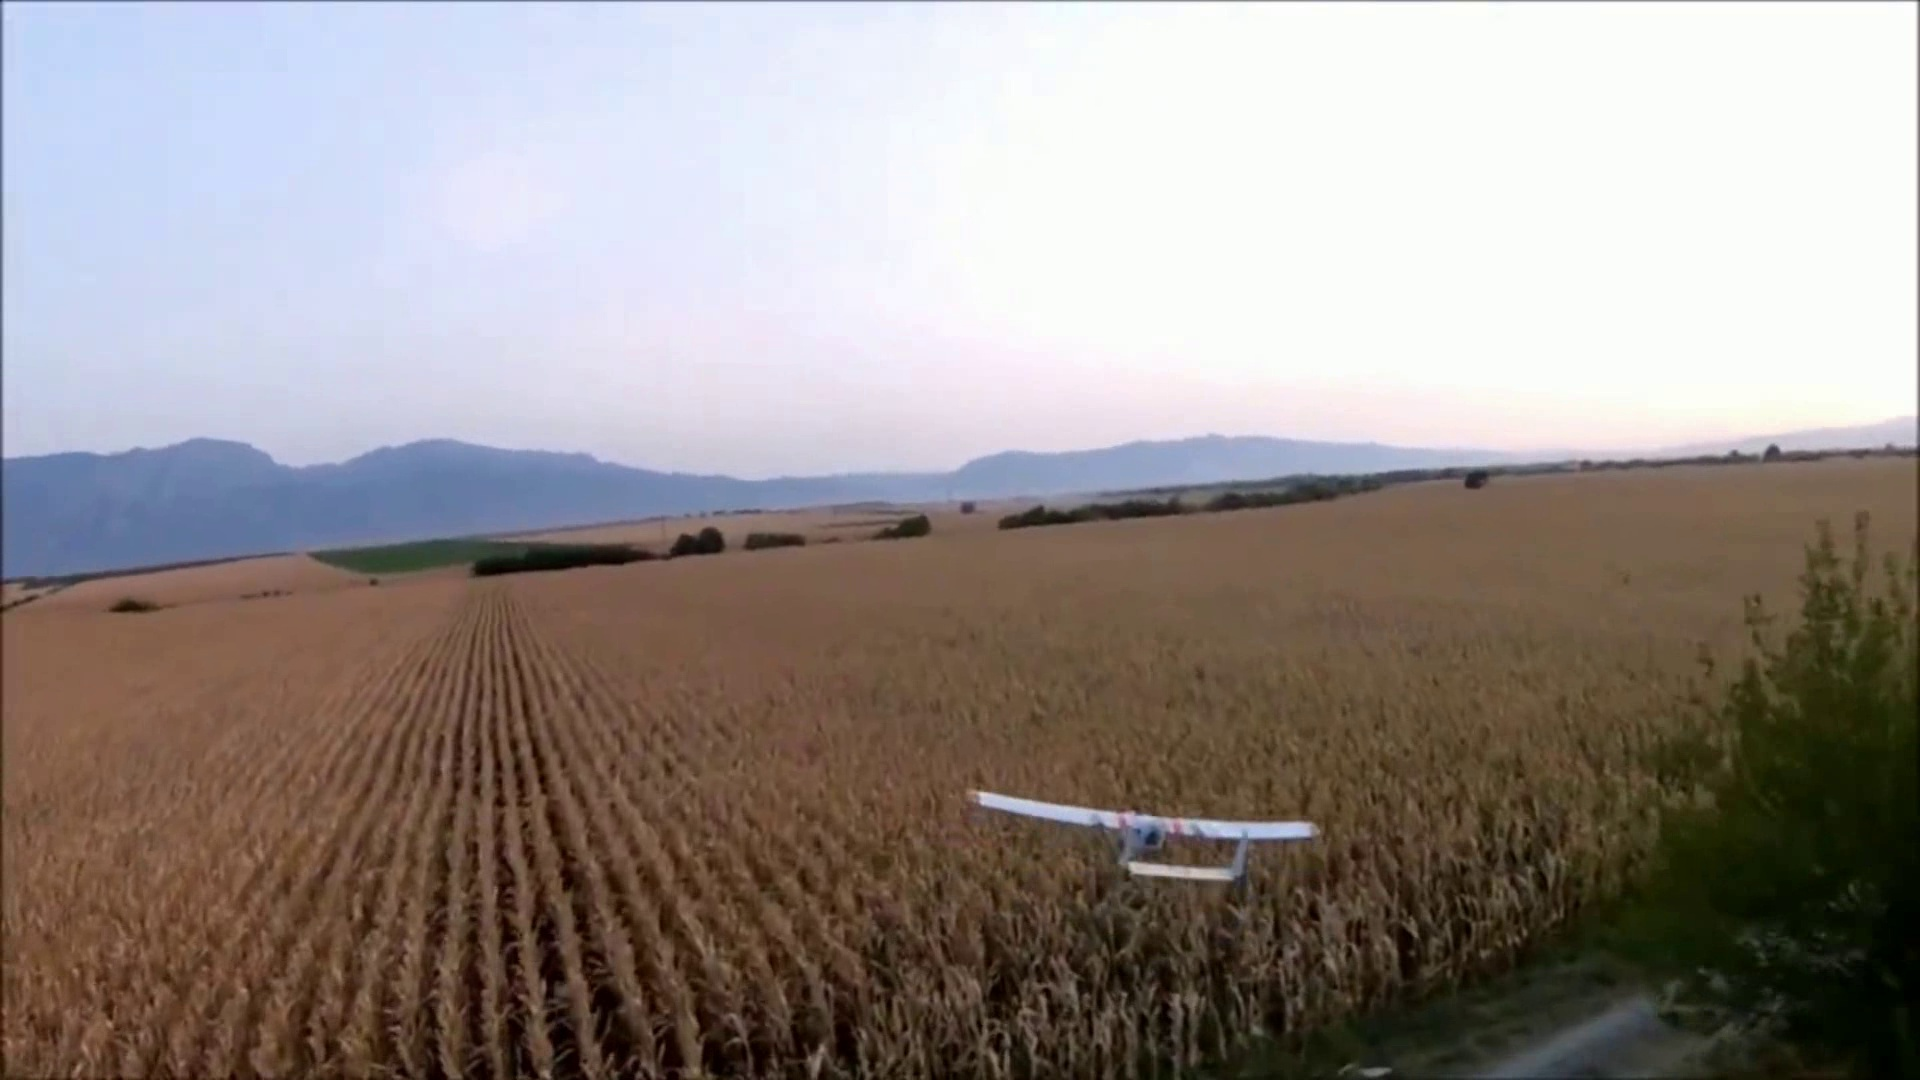airplane: (968, 791, 1320, 884)
